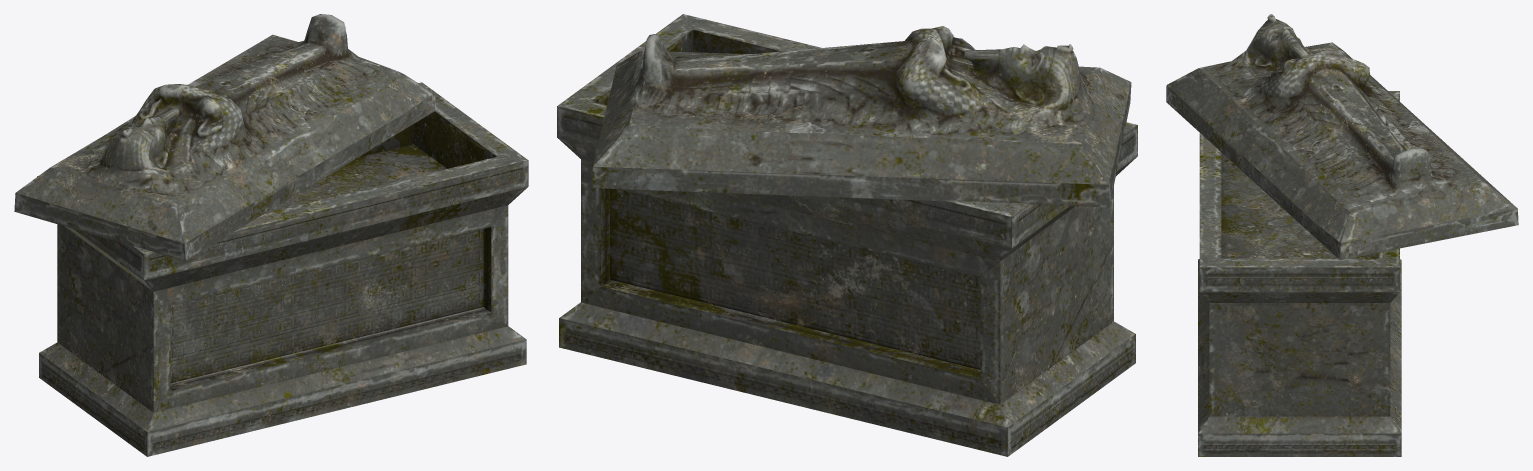
The model's file is SM_Prop_Stone_Grave2.fbx.
3 renders of one model, left to right at view 1: azimuth 30°, elevation 25°; view 2: azimuth 150°, elevation 25°; view 3: azimuth 270°, elevation 25°, orthographic. The views are drawn at different scales.
Visible parts, largest first — view 1: SM_Prop_Stone_Grave2_LOD0; view 2: SM_Prop_Stone_Grave2_LOD0; view 3: SM_Prop_Stone_Grave2_LOD0.
Part boxes in pixels (bbox=[...]): SM_Prop_Stone_Grave2_LOD0: bbox=[14, 14, 528, 456]; SM_Prop_Stone_Grave2_LOD0: bbox=[557, 14, 1137, 456]; SM_Prop_Stone_Grave2_LOD0: bbox=[1166, 14, 1518, 456].
Size of the model in its own units: 271 by 201 by 176.
Materials: 1 (1 with a texture image).
